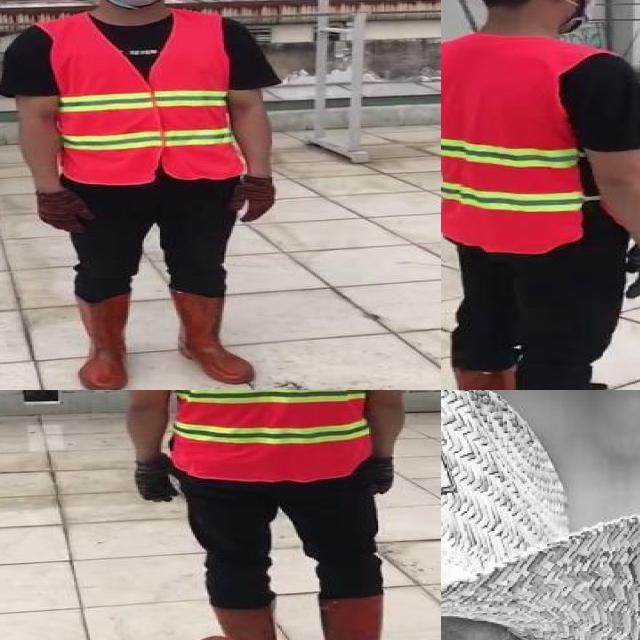boots: (169, 291, 258, 383), (72, 290, 133, 390), (314, 595, 424, 640), (195, 603, 284, 640), (451, 365, 512, 390)
hand_glove: (37, 188, 96, 232), (228, 177, 278, 222), (134, 460, 180, 503), (363, 456, 398, 497), (622, 248, 640, 299)
head_nohelmet: (441, 441, 629, 640)
person: (1, 0, 296, 390), (111, 390, 441, 640), (441, 0, 640, 390)
vest: (441, 34, 597, 254), (45, 16, 247, 183), (161, 390, 381, 477)
